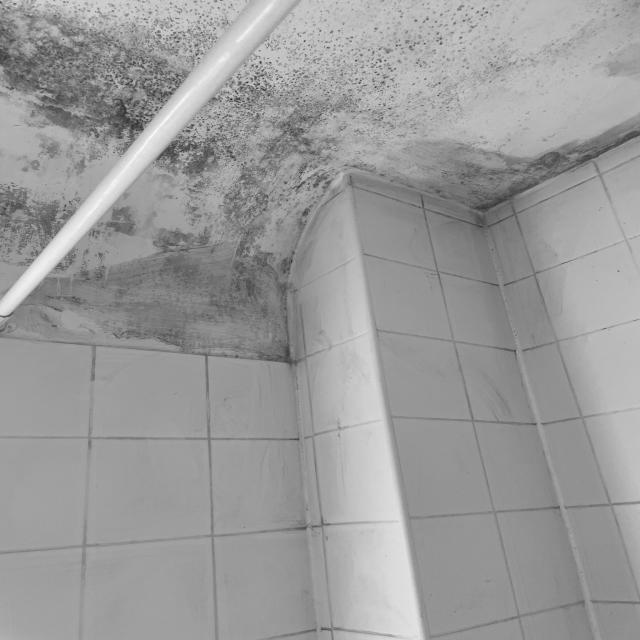stain marks: (0, 0, 640, 376)
